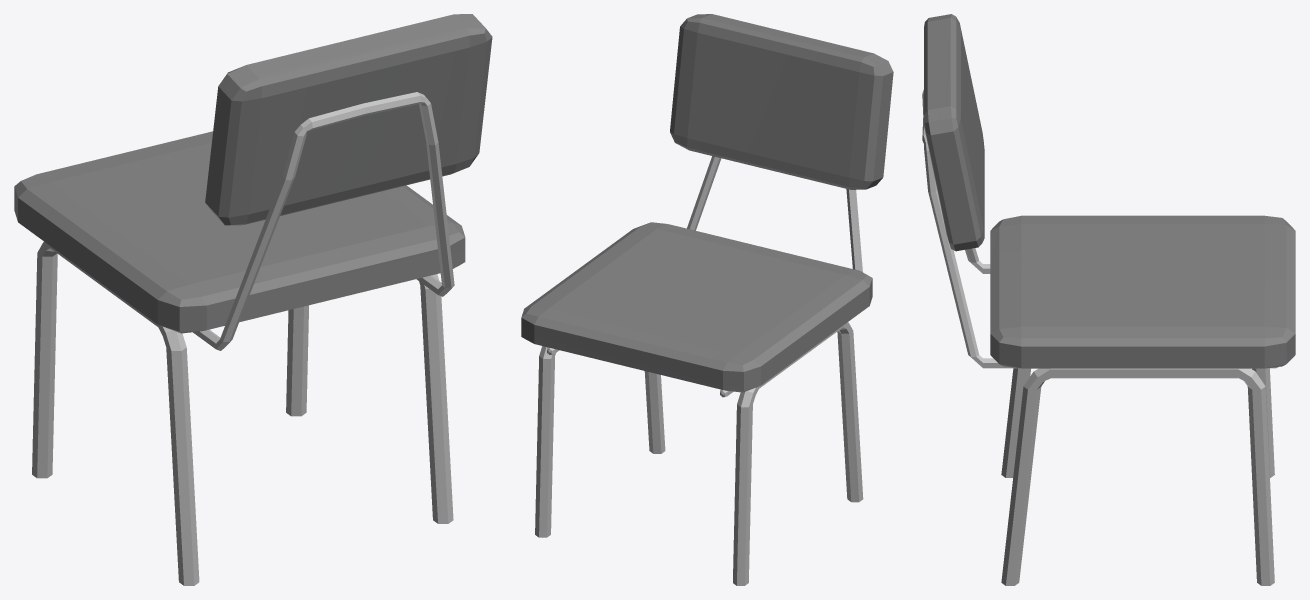
Rendered from Chair_Base.glb.
3 renders of one model, left to right at view 1: azimuth 30°, elevation 25°; view 2: azimuth 150°, elevation 25°; view 3: azimuth 270°, elevation 25°, orthographic. The views are drawn at different scales.
Parts seen in each view (by area): view 1: Chair Base; view 2: Chair Base; view 3: Chair Base.
Part boxes in pixels (x1=…): Chair Base: x1=14, y1=14, x2=492, y2=585; Chair Base: x1=521, y1=14, x2=893, y2=585; Chair Base: x1=922, y1=14, x2=1295, y2=585.
Size of the model in its own units: 1.25 by 2.11 by 1.53.
1 material, 1 textured.
